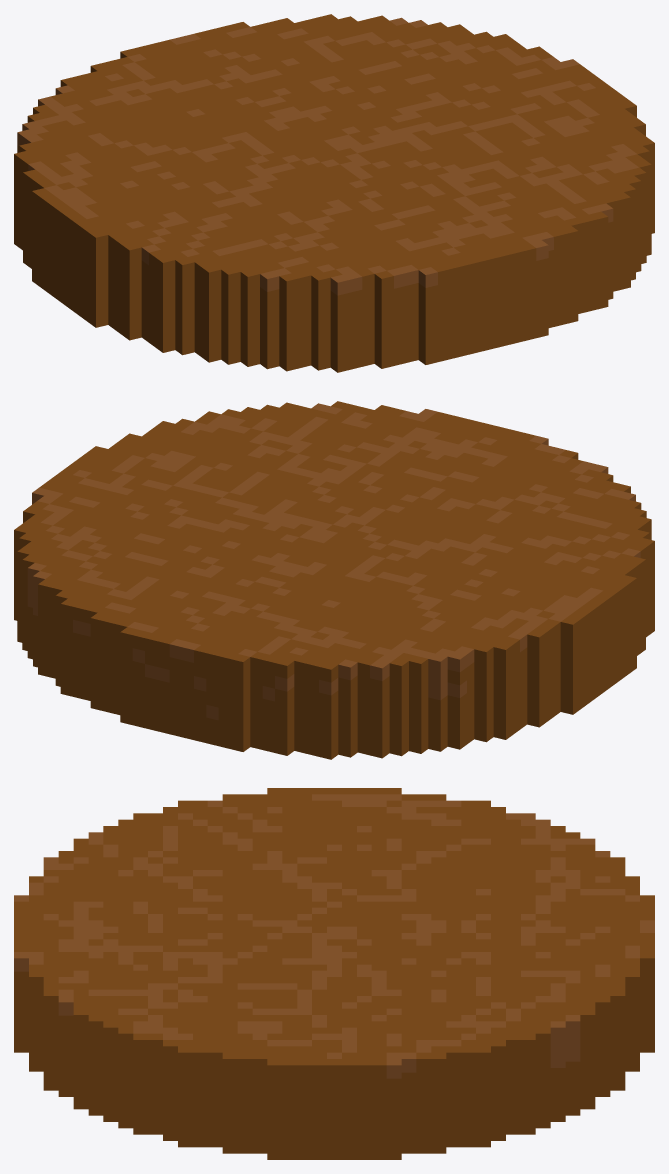
The model's file is bocale-2.obj.
The picture shows the model from 3 angles, top to bottom: view 1: azimuth 30°, elevation 25°; view 2: azimuth 150°, elevation 25°; view 3: azimuth 270°, elevation 25°; orthographic projection. The views are drawn at different scales.
Bounding box in the file's own units: 4.4 × 0.7 × 4.3.
1 material, 1 textured.
